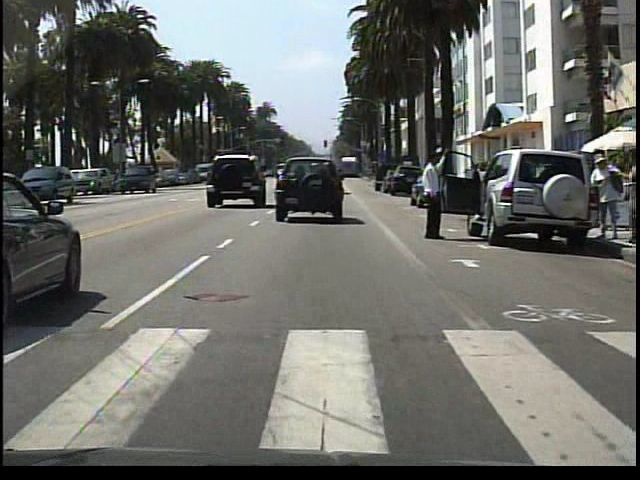person: (417, 145, 456, 251)
